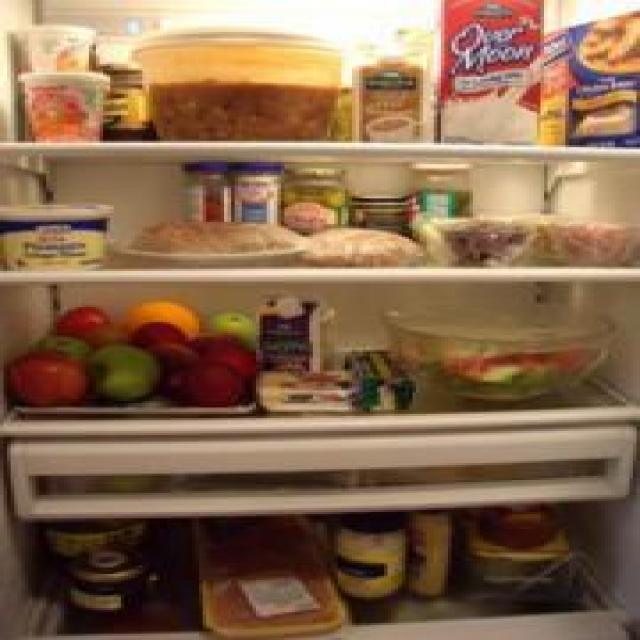apple: (5, 352, 87, 403), (89, 348, 156, 397), (57, 304, 114, 340), (206, 312, 263, 342), (37, 338, 91, 360)
mayonaise: (339, 513, 404, 596)
milk: (441, 0, 544, 147)
yogurt: (21, 74, 107, 140), (23, 24, 91, 76)
